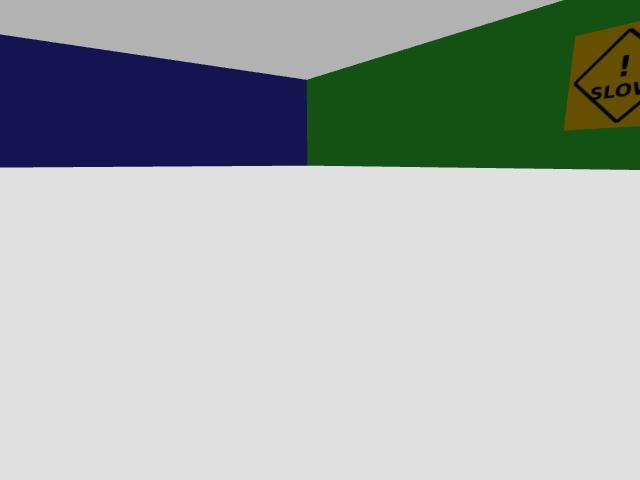slow: (564, 21, 639, 129)
